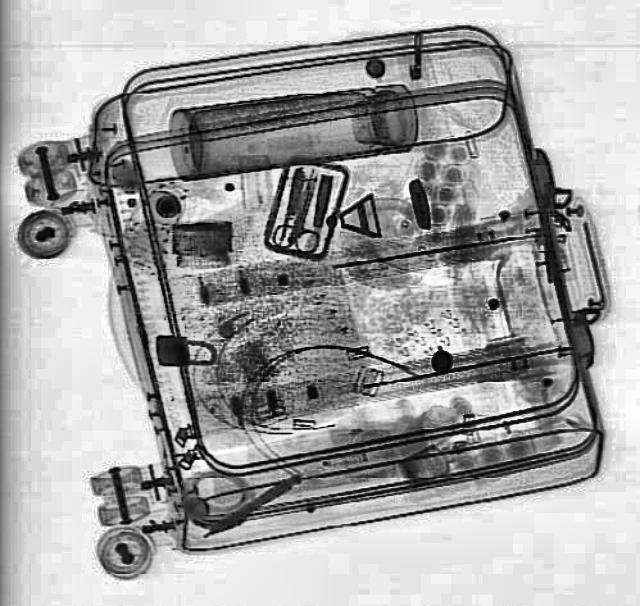Scissors: (267, 168, 337, 256)
